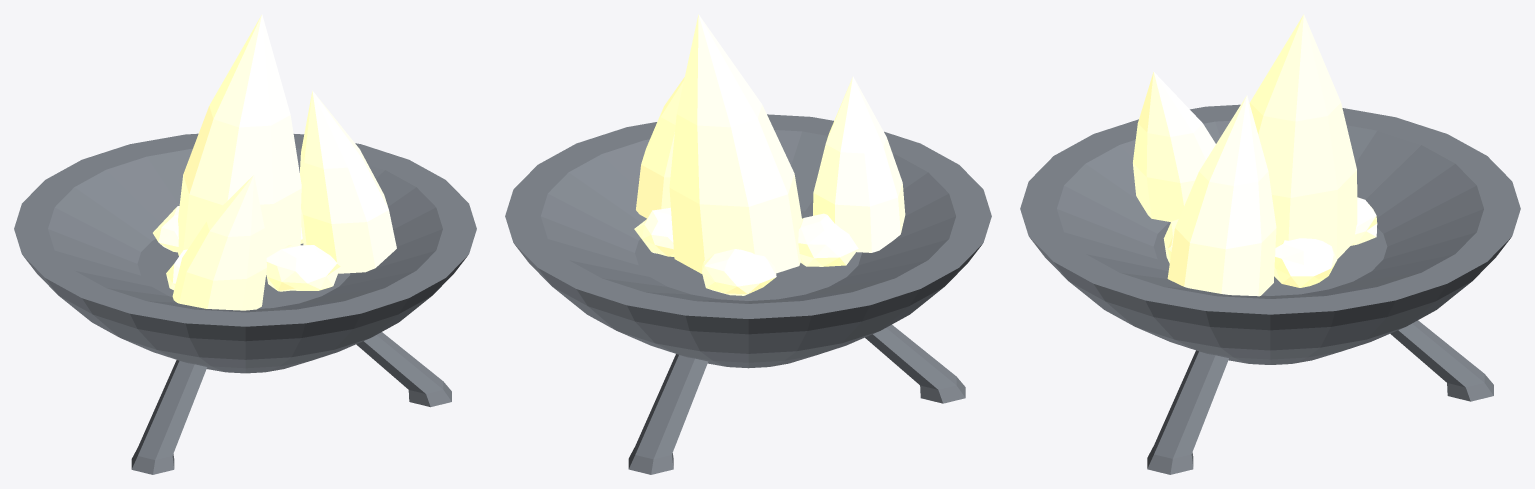
The model's file is HeaterLamp.glb.
3 views of the same model, side by side, from view 1: azimuth 30°, elevation 25°; view 2: azimuth 150°, elevation 25°; view 3: azimuth 270°, elevation 25° (orthographic). The views are drawn at different scales.
Parts seen in each view (by area): view 1: HeaterLamp; view 2: HeaterLamp; view 3: HeaterLamp.
Part boxes in pixels (x1,y1,x2,y2): HeaterLamp: (14, 14, 476, 474); HeaterLamp: (505, 14, 991, 474); HeaterLamp: (1020, 14, 1520, 474).
Bounding box in the file's own units: 3 × 2.6 × 3.
